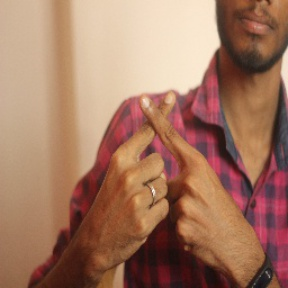X: (104, 80, 208, 186)
